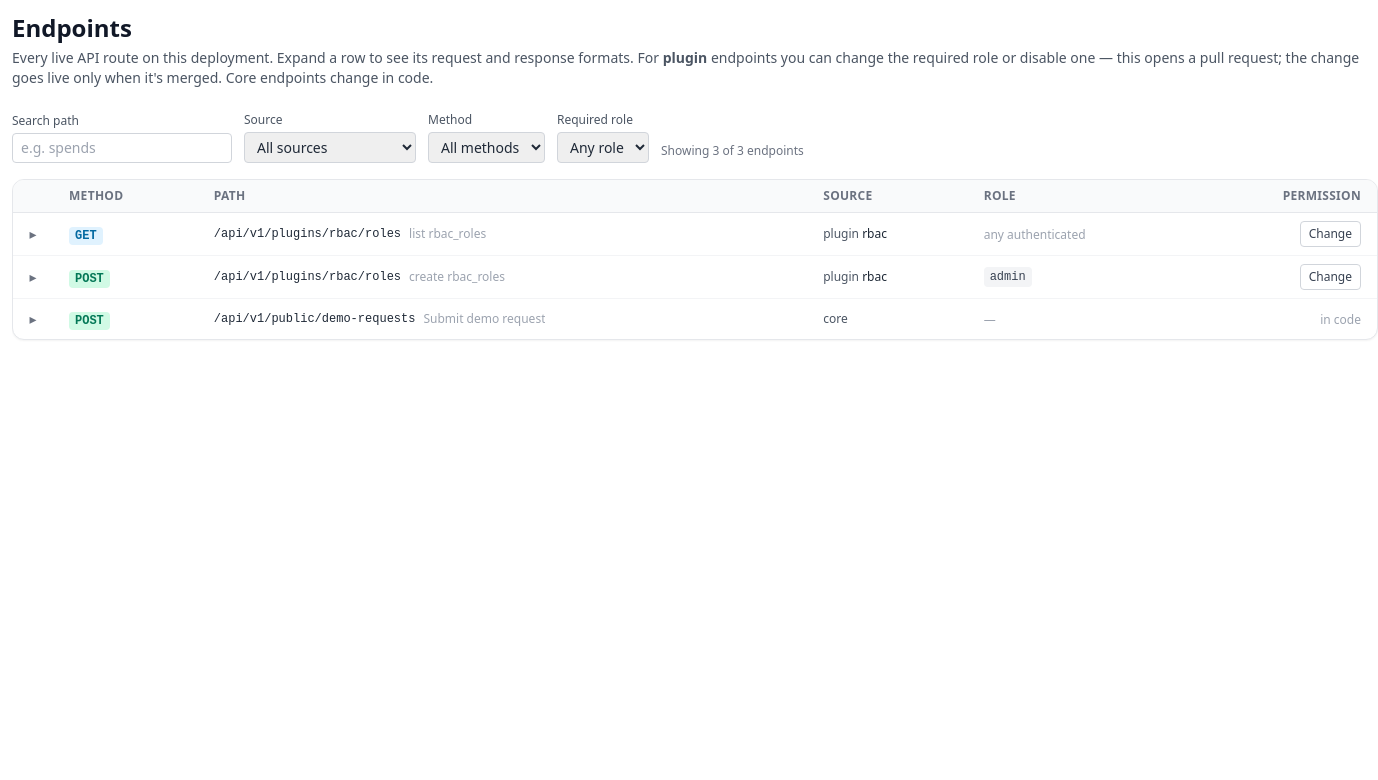
EndpointsPage › maps a 409 from the signer to a friendly message
Click the button "Change" in the row of "GET".
click(1330, 234)  # box top-left (1300, 221), bottom-right (1361, 247)
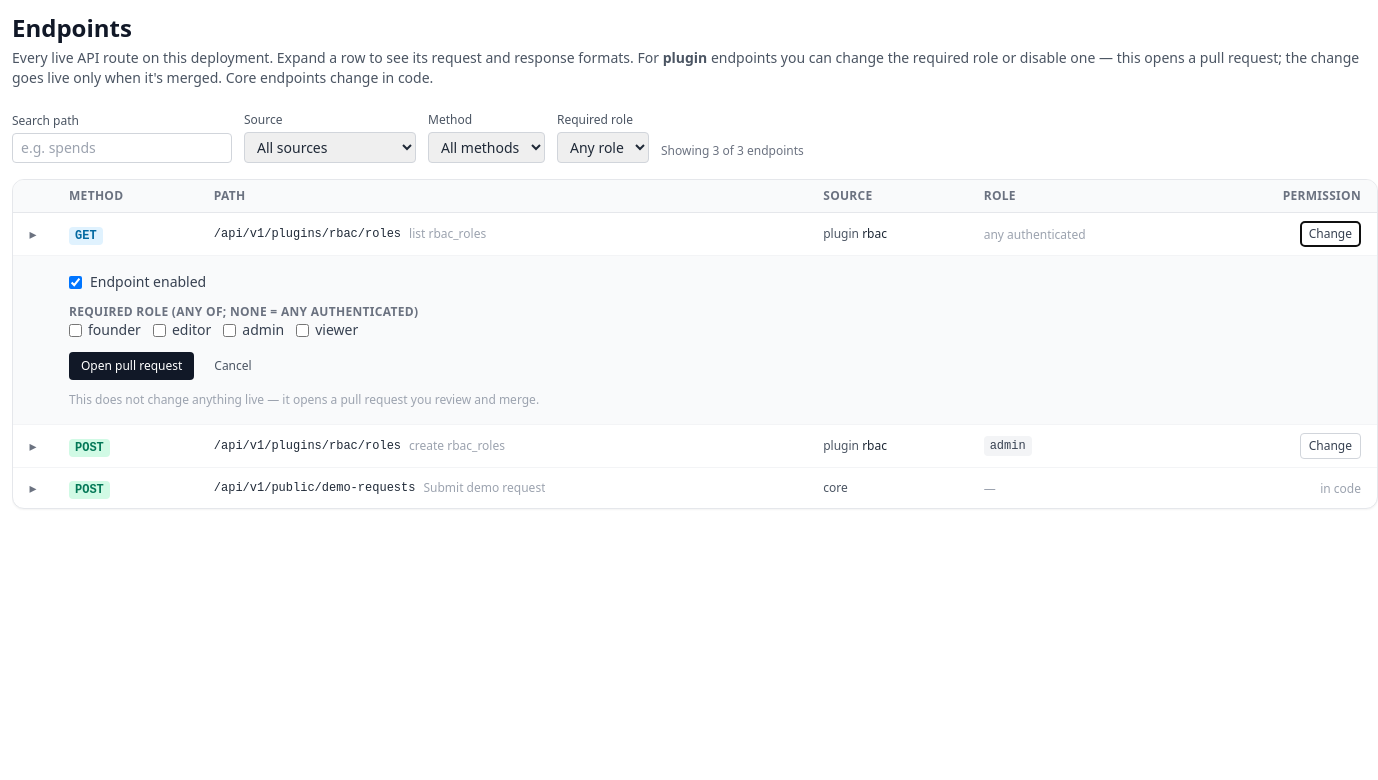
Click the button "Open pull request".
click(132, 366)  # box top-left (69, 352), bottom-right (194, 380)
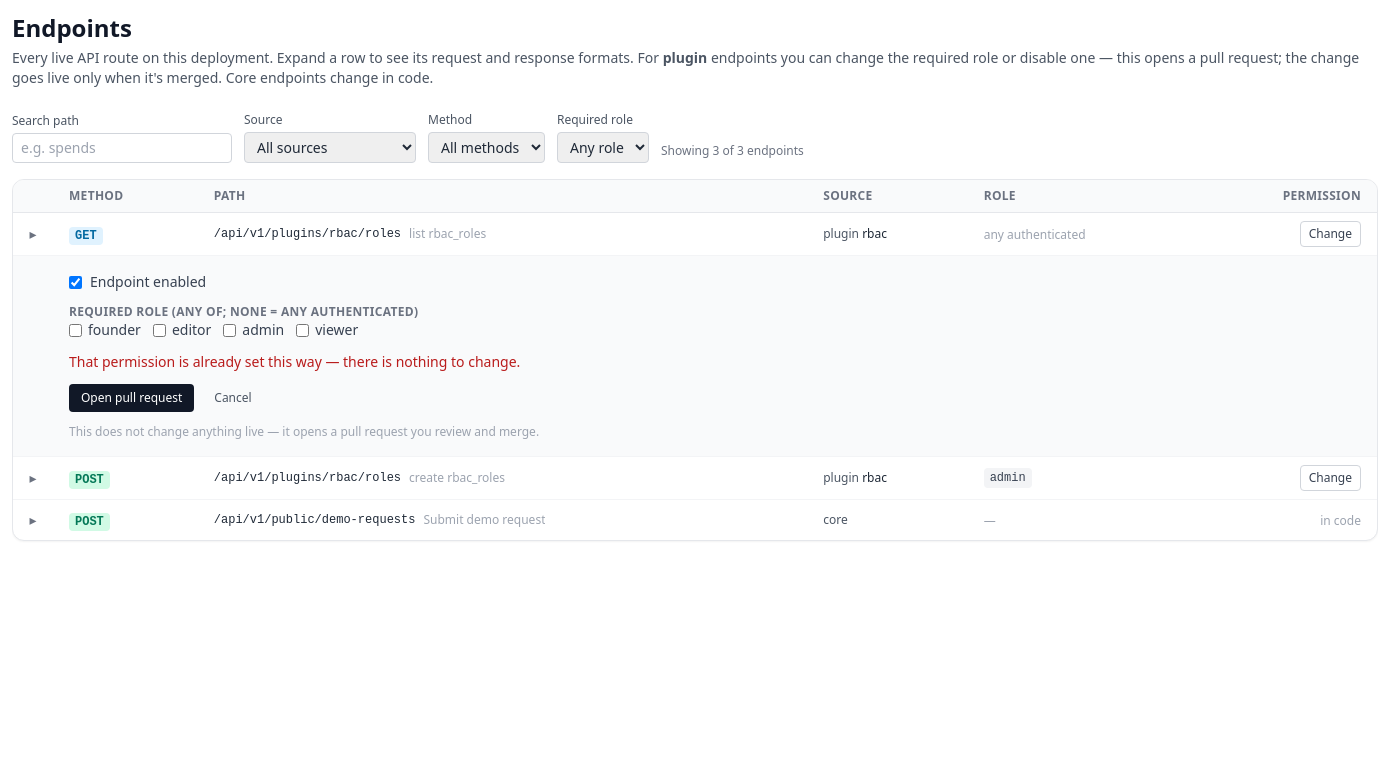
Check: the text "already set this way" is shown, box top-left (69, 352), bottom-right (520, 371)
